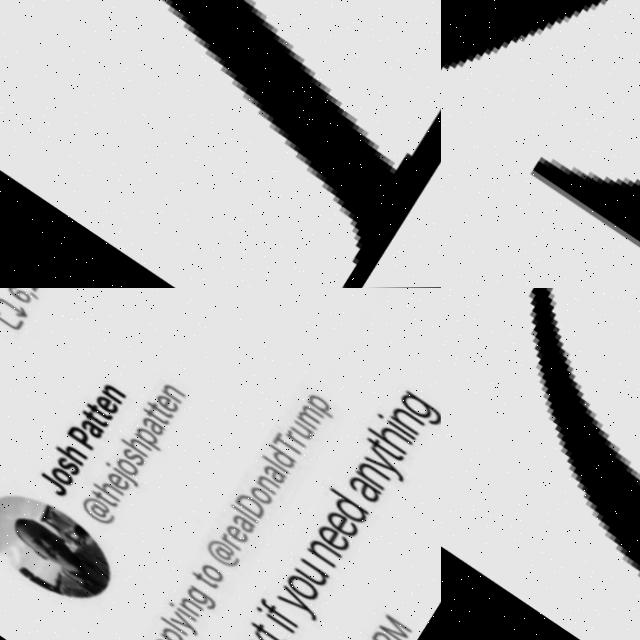2: (6, 288, 36, 293)
6: (0, 288, 28, 306)
G: (441, 288, 640, 640)
S: (441, 0, 640, 288)
